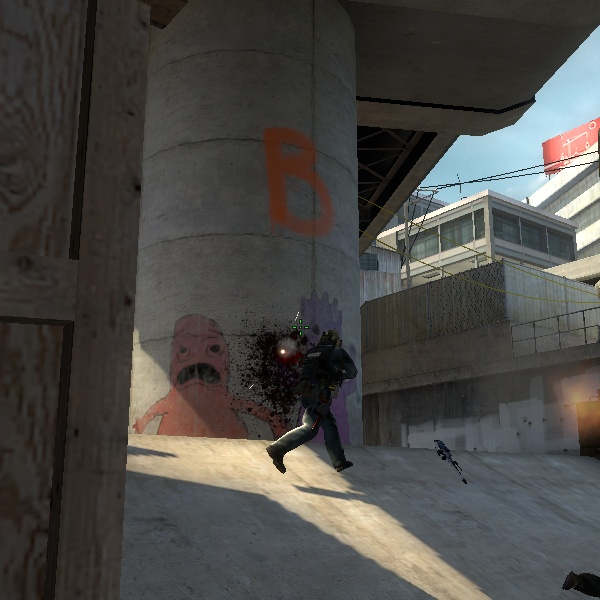ct_body: (267, 329, 364, 479)
ct_head: (315, 326, 347, 356)
